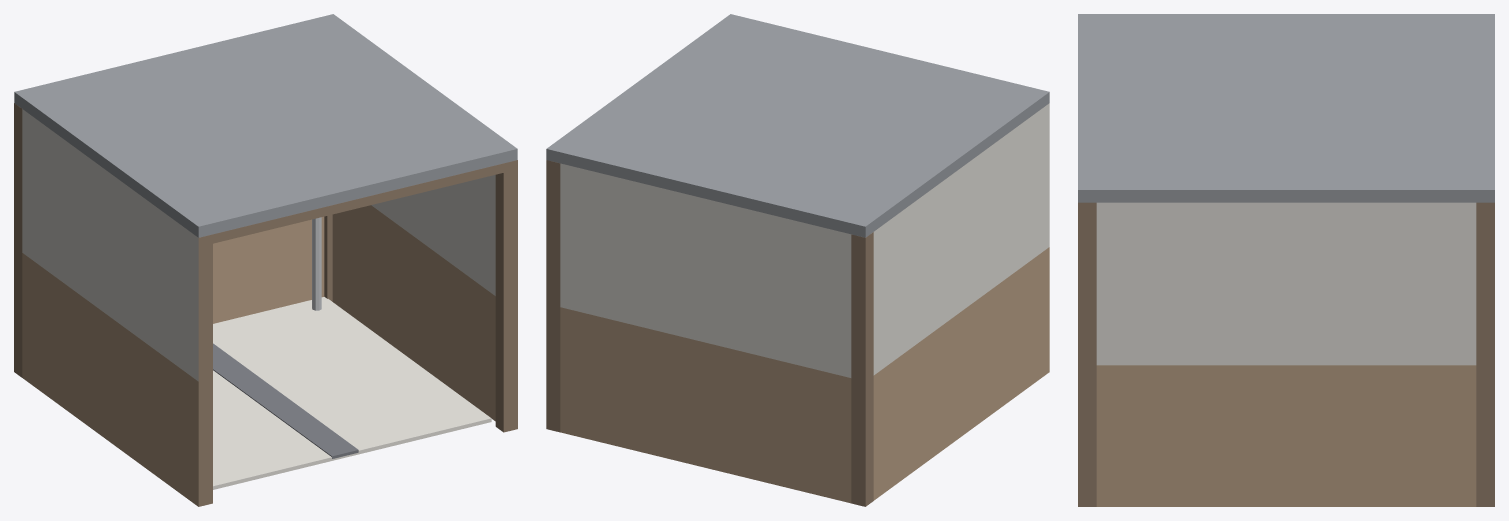
The model's file is wash-bay.glb.
The picture shows the model from 3 angles, left to right: view 1: azimuth 30°, elevation 25°; view 2: azimuth 150°, elevation 25°; view 3: azimuth 270°, elevation 25°; orthographic projection. The views are drawn at different scales.
Parts seen in each view (by area): view 1: wash-bay; view 2: wash-bay; view 3: wash-bay.
Part boxes in pixels (x1,y1,x2,y2): wash-bay: (14,14,517,506); wash-bay: (546,14,1049,506); wash-bay: (1078,14,1494,506).
Size of the model in its own units: 3.6 by 3.02 by 3.6.
